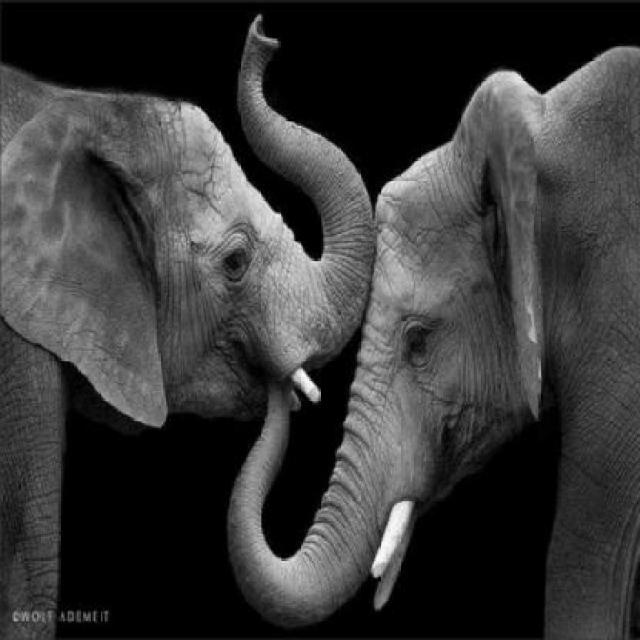Elephant: (172, 14, 591, 638), (1, 26, 381, 636)
